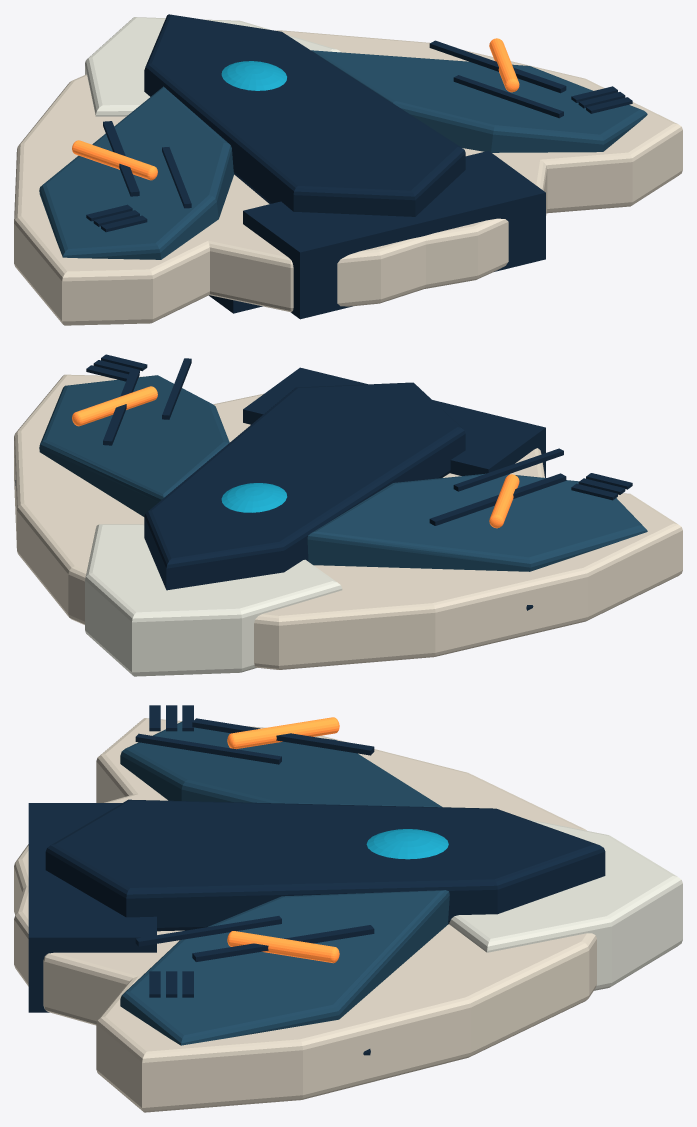
The model's file is bulwark-medium.glb.
3 renders of one model, top to bottom at view 1: azimuth 30°, elevation 25°; view 2: azimuth 150°, elevation 25°; view 3: azimuth 270°, elevation 25°, orthographic. The views are drawn at different scales.
Parts seen in each view (by area): view 1: dark_static, hull_static, accent_static, porcelain_static, trim_static, glass_static; view 2: dark_static, hull_static, accent_static, porcelain_static, trim_static, glass_static; view 3: dark_static, hull_static, accent_static, porcelain_static, trim_static, glass_static.
Boxes of the visible parts, x1,y1,x2,y2 form: dark_static: [86, 14, 632, 319]; hull_static: [14, 30, 682, 325]; accent_static: [39, 50, 647, 259]; porcelain_static: [85, 17, 340, 116]; trim_static: [72, 38, 519, 180]; glass_static: [221, 61, 286, 90]; dark_static: [15, 354, 632, 610]; hull_static: [14, 374, 682, 669]; accent_static: [39, 375, 647, 571]; porcelain_static: [85, 524, 342, 676]; trim_static: [72, 386, 519, 528]; glass_static: [221, 483, 287, 512]; dark_static: [28, 705, 605, 1055]; hull_static: [14, 718, 596, 1112]; accent_static: [120, 721, 449, 1045]; porcelain_static: [449, 819, 682, 990]; trim_static: [227, 717, 339, 963]; glass_static: [366, 829, 448, 859].
Bounding box in the file's own units: 389 × 70 × 323.
